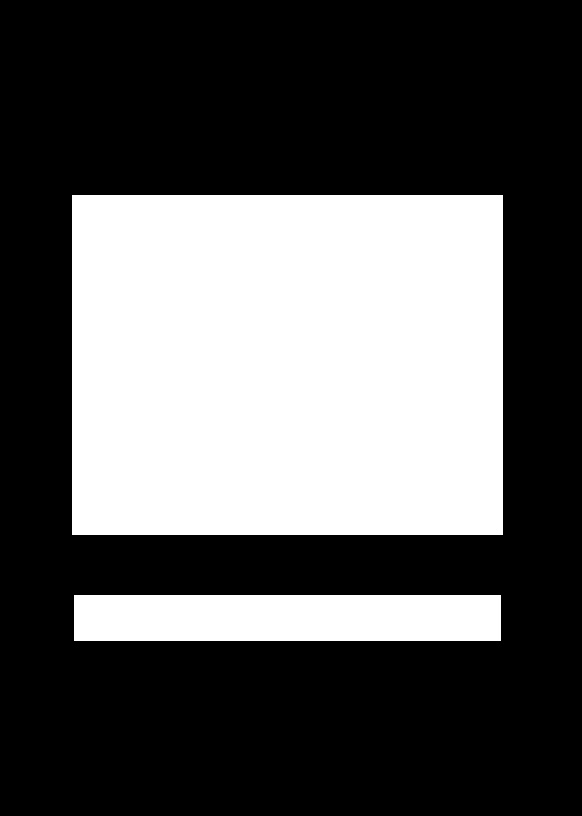table: (72, 195, 502, 534), (74, 595, 500, 640)
